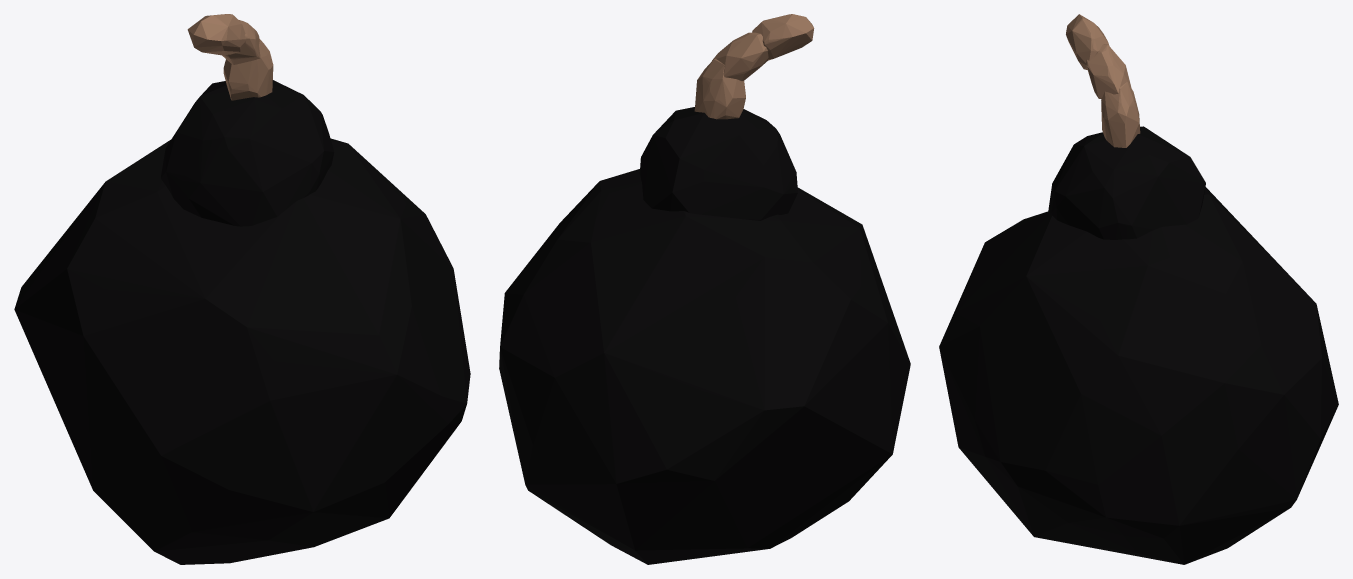
File: Bomb.fbx
3 renders of one model, left to right at view 1: azimuth 30°, elevation 25°; view 2: azimuth 150°, elevation 25°; view 3: azimuth 270°, elevation 25°, orthographic. The views are drawn at different scales.
Visible parts, largest first — view 1: brush_MatteHull_g0_b0; view 2: brush_MatteHull_g0_b0; view 3: brush_MatteHull_g0_b0.
Part boxes in pixels (<box>): brush_MatteHull_g0_b0: <box>14,14,470,564</box>; brush_MatteHull_g0_b0: <box>499,14,910,564</box>; brush_MatteHull_g0_b0: <box>939,14,1338,564</box>.
Bounding box in the file's own units: 24.35 × 35.5 × 25.96.
